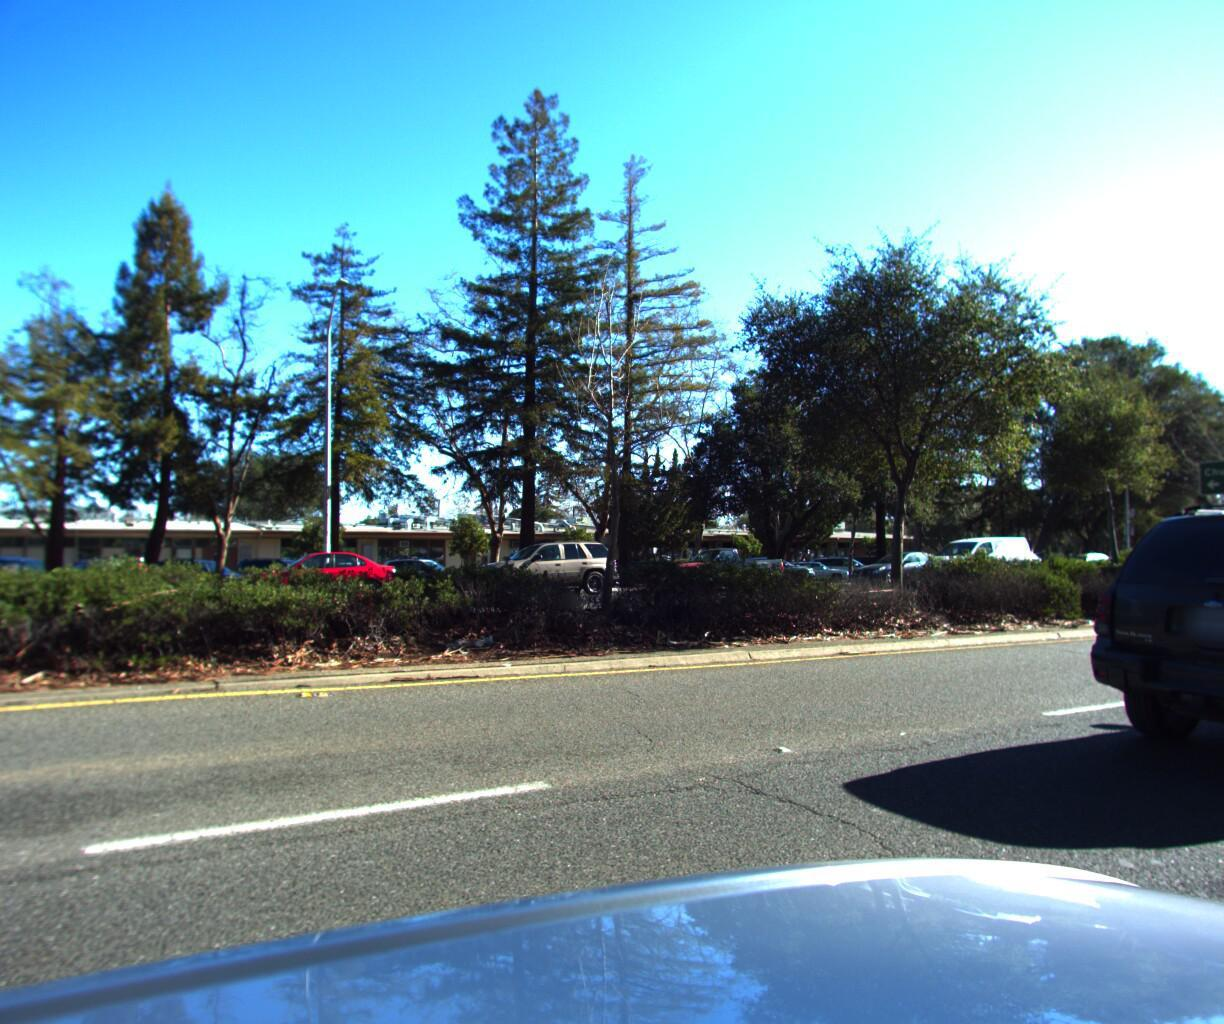car: (1046, 469, 1224, 830), (219, 547, 405, 608), (456, 537, 621, 599), (654, 544, 785, 595), (925, 532, 1048, 578), (845, 546, 960, 590), (0, 547, 29, 629)
